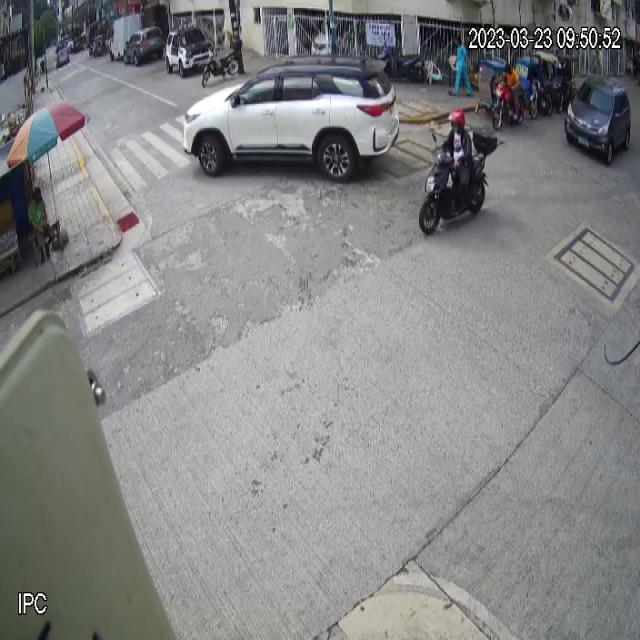Car: (182, 54, 401, 184), (565, 73, 634, 166)
Motorcycle: (418, 123, 498, 234)
Tricycle: (476, 56, 526, 133)
